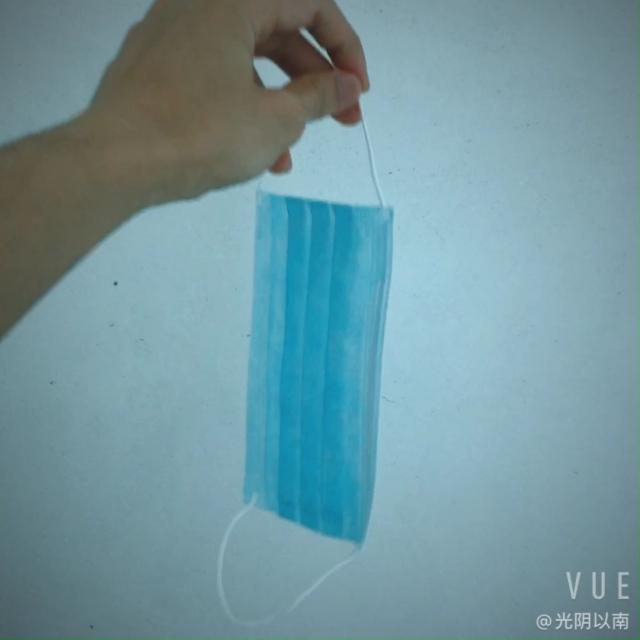face mask: (234, 181, 407, 550)
